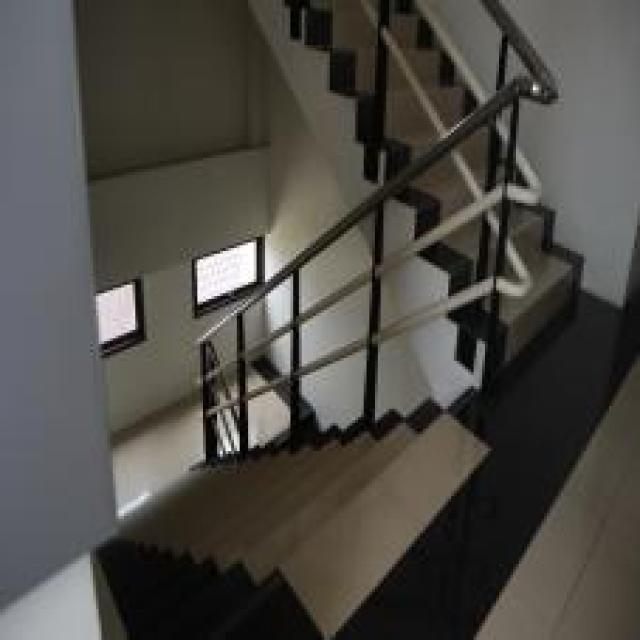downstair: (114, 416, 587, 638)
